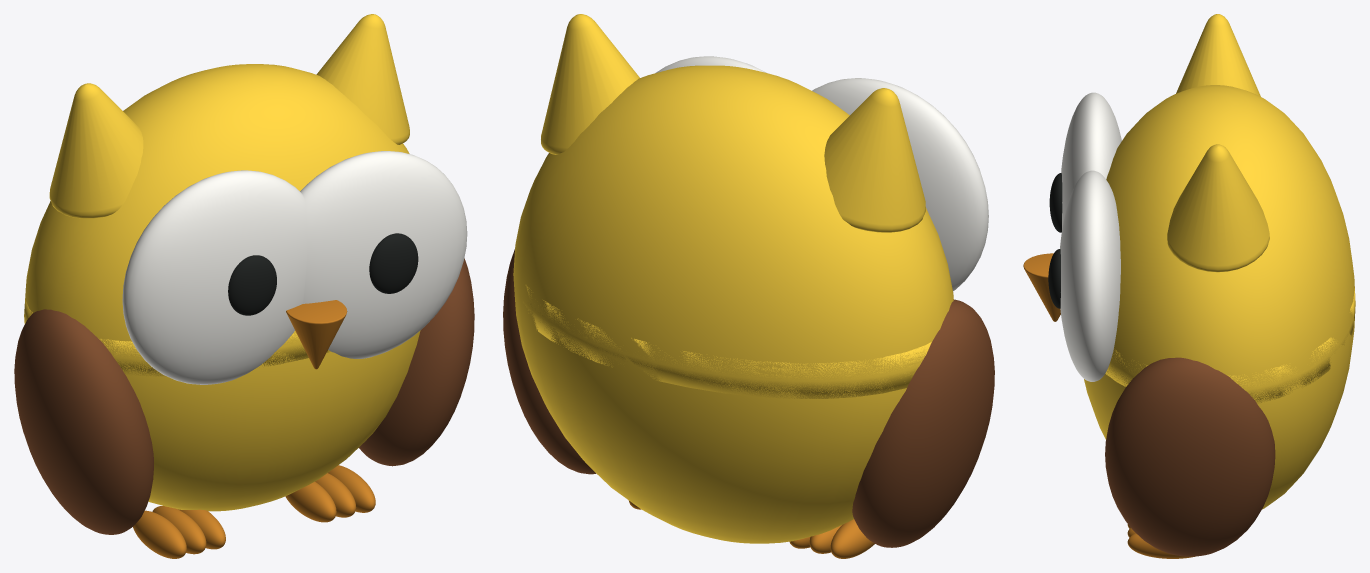
Rendered from tradely-avatar.glb.
The picture shows the model from 3 angles, left to right: view 1: azimuth 30°, elevation 25°; view 2: azimuth 150°, elevation 25°; view 3: azimuth 270°, elevation 25°; orthographic projection. The views are drawn at different scales.
Visible parts, largest first — view 1: OwlHeadShell, OwlBody, FacialDiscLeft, FacialDiscRight, LeftFoldedWing, RightFoldedWing, LeftCrownTuft, RightCrownTuft, ShortOwlBeak, PupilRight, PupilLeft, LeftToe0 (+5 smaller); view 2: OwlHeadShell, OwlBody, LeftFoldedWing, FacialDiscLeft, LeftCrownTuft, RightCrownTuft, RightFoldedWing, LeftToe0, FacialDiscRight; view 3: OwlHeadShell, RightFoldedWing, FacialDiscRight, OwlBody, RightCrownTuft, FacialDiscLeft, LeftCrownTuft, ShortOwlBeak, PupilLeft, PupilRight, RightToe2.
Boxes of the visible parts, bbox=[...] form: OwlHeadShell: bbox=[24, 64, 409, 376]; OwlBody: bbox=[24, 299, 420, 511]; FacialDiscLeft: bbox=[122, 170, 307, 384]; FacialDiscRight: bbox=[300, 151, 467, 358]; LeftFoldedWing: bbox=[14, 309, 153, 534]; RightFoldedWing: bbox=[359, 258, 474, 466]; LeftCrownTuft: bbox=[49, 83, 143, 218]; RightCrownTuft: bbox=[316, 14, 409, 144]; ShortOwlBeak: bbox=[286, 300, 347, 369]; PupilRight: bbox=[369, 233, 418, 293]; PupilLeft: bbox=[228, 255, 276, 315]; LeftToe0: bbox=[133, 510, 186, 558]; OwlHeadShell: bbox=[513, 65, 953, 398]; OwlBody: bbox=[513, 275, 931, 543]; LeftFoldedWing: bbox=[852, 299, 994, 547]; FacialDiscLeft: bbox=[812, 78, 988, 291]; LeftCrownTuft: bbox=[824, 88, 925, 232]; RightCrownTuft: bbox=[541, 14, 639, 154]; RightFoldedWing: bbox=[503, 249, 595, 474]; LeftToe0: bbox=[830, 519, 874, 558]; FacialDiscRight: bbox=[655, 56, 767, 73]; OwlHeadShell: bbox=[1105, 85, 1355, 403]; RightFoldedWing: bbox=[1105, 357, 1275, 556]; FacialDiscRight: bbox=[1060, 170, 1120, 381]; OwlBody: bbox=[1084, 288, 1355, 509]; RightCrownTuft: bbox=[1167, 144, 1269, 272]; FacialDiscLeft: bbox=[1061, 92, 1121, 229]; LeftCrownTuft: bbox=[1176, 14, 1260, 96]; ShortOwlBeak: bbox=[1023, 253, 1060, 321]; PupilLeft: bbox=[1049, 173, 1062, 232]; PupilRight: bbox=[1048, 249, 1060, 308]; RightToe2: bbox=[1127, 533, 1195, 558].
Size of the model in its own units: 1.85 by 1.91 by 1.33.
